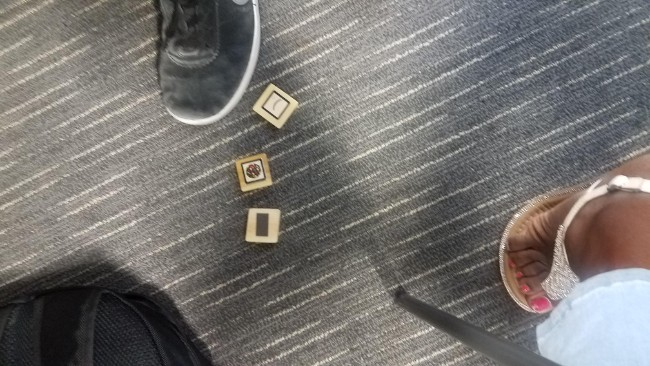cookie: (234, 152, 272, 191)
